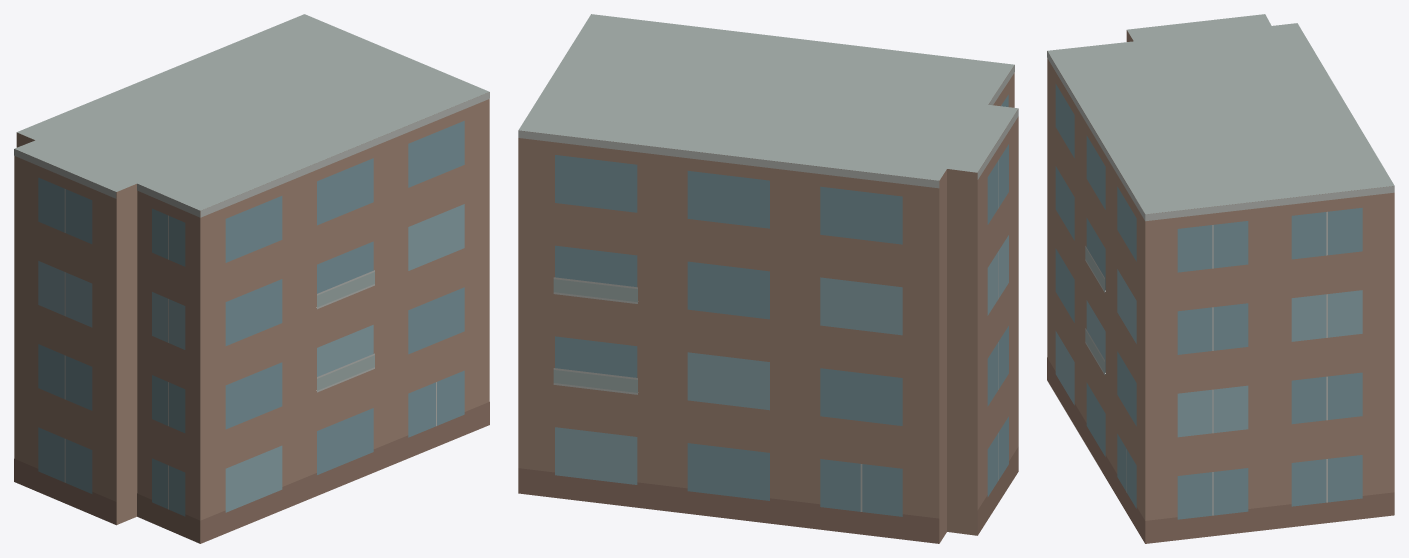
The model's file is survey-upis-32889425.glb.
The picture shows the model from 3 angles, left to right: view 1: azimuth 30°, elevation 25°; view 2: azimuth 150°, elevation 25°; view 3: azimuth 270°, elevation 25°; orthographic projection. The views are drawn at different scales.
Visible parts, largest first — view 1: survey-upis-32889425.tmp; view 2: survey-upis-32889425.tmp; view 3: survey-upis-32889425.tmp.
Boxes of the visible parts, left/top/right/bottom form: survey-upis-32889425.tmp: left=14, top=14, right=489, bottom=543; survey-upis-32889425.tmp: left=518, top=14, right=1018, bottom=543; survey-upis-32889425.tmp: left=1047, top=14, right=1394, bottom=543.
Size of the model in its own units: 15.27 by 11.7 by 11.19.
